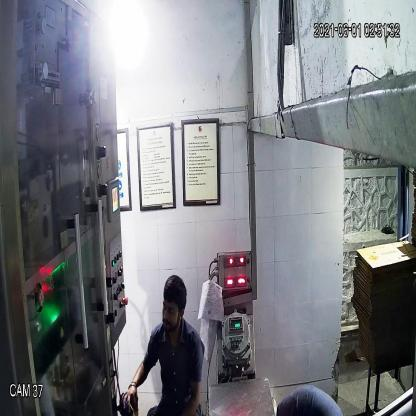no_goggles: (160, 296, 184, 316)
